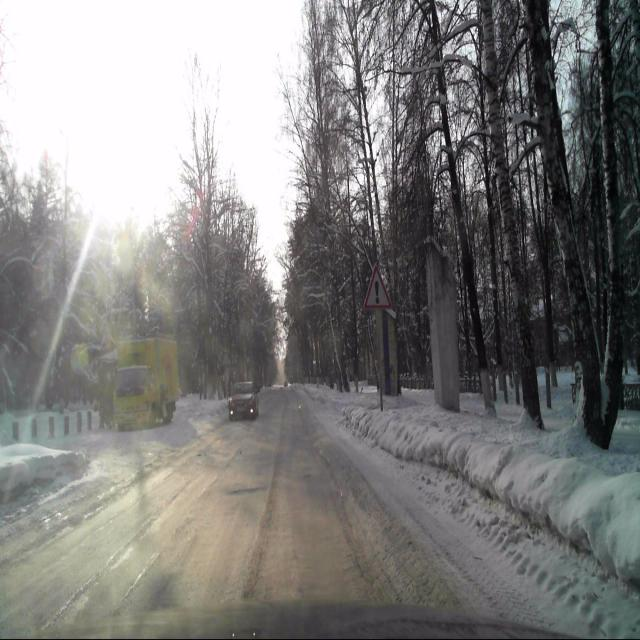road sign: (365, 265, 390, 311)
